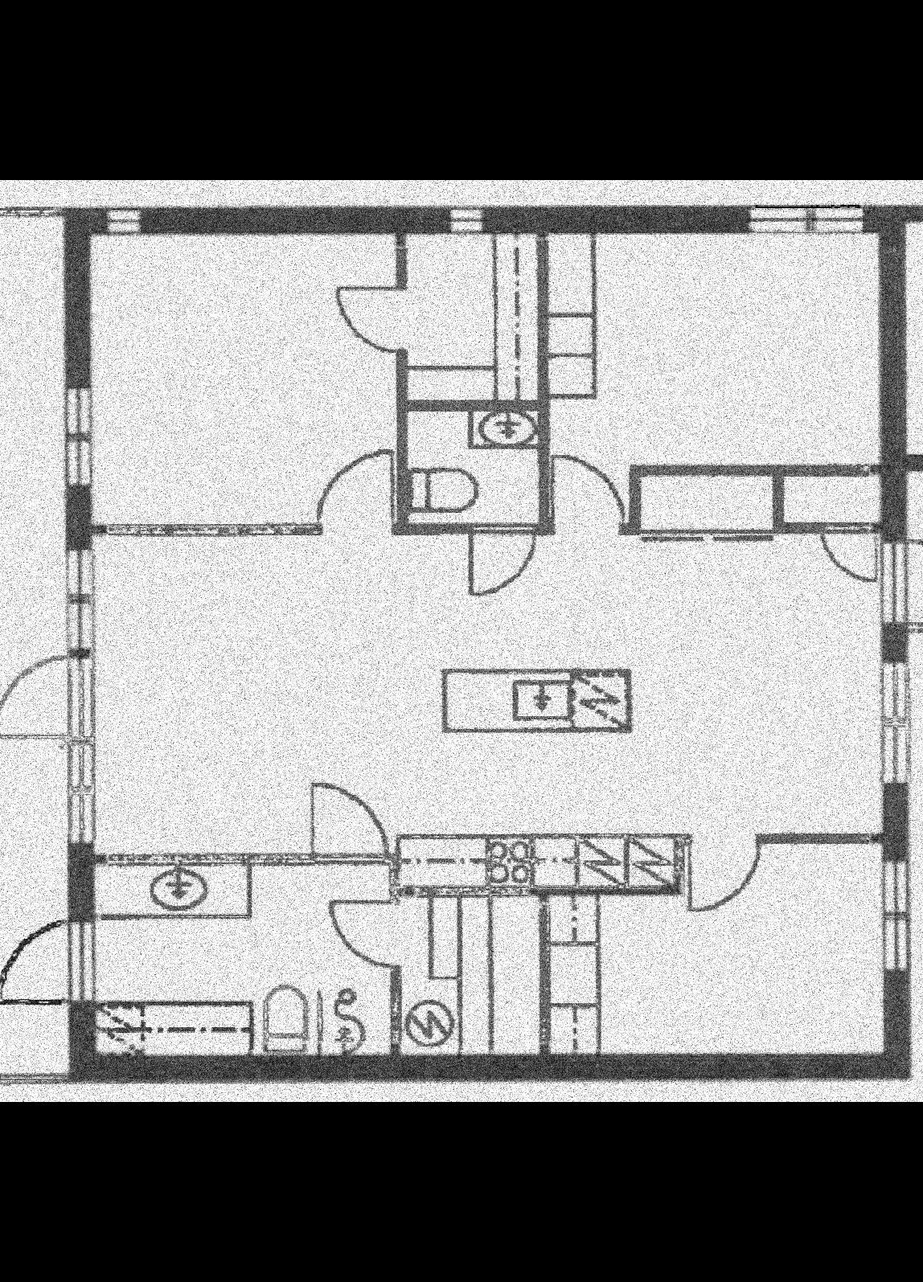door: (94, 537, 876, 856), (549, 233, 880, 537), (86, 235, 394, 529), (599, 836, 882, 1057), (94, 866, 386, 1061), (0, 216, 63, 1070), (402, 231, 531, 411), (398, 892, 541, 1054), (404, 414, 535, 521)
window: (0, 913, 97, 1006), (0, 650, 86, 742), (309, 774, 394, 866), (320, 440, 394, 539), (682, 832, 769, 915), (321, 892, 410, 967), (328, 279, 402, 356), (464, 527, 537, 597), (880, 534, 923, 623), (823, 520, 874, 578)
zone: (877, 668, 908, 782), (751, 205, 863, 234), (59, 389, 90, 487), (62, 553, 92, 647), (69, 746, 90, 839), (890, 864, 904, 967), (452, 208, 482, 231), (107, 209, 137, 231)
